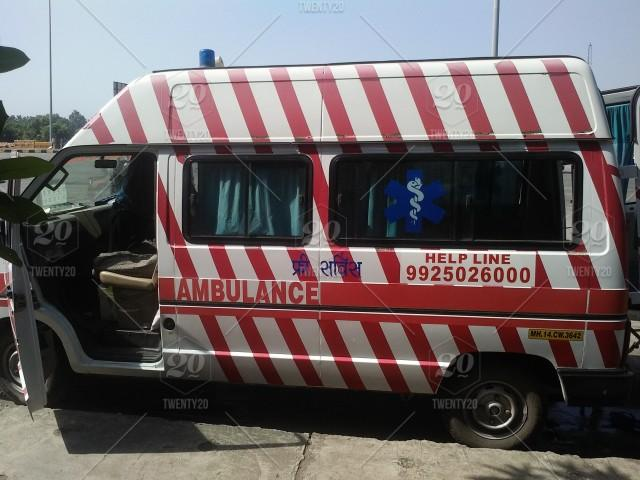Emergency-Vehicles: (0, 32, 640, 464)
